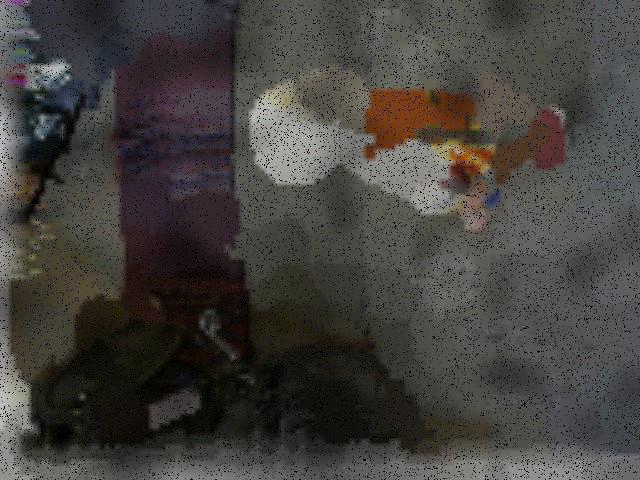eight: (294, 78, 339, 111)
